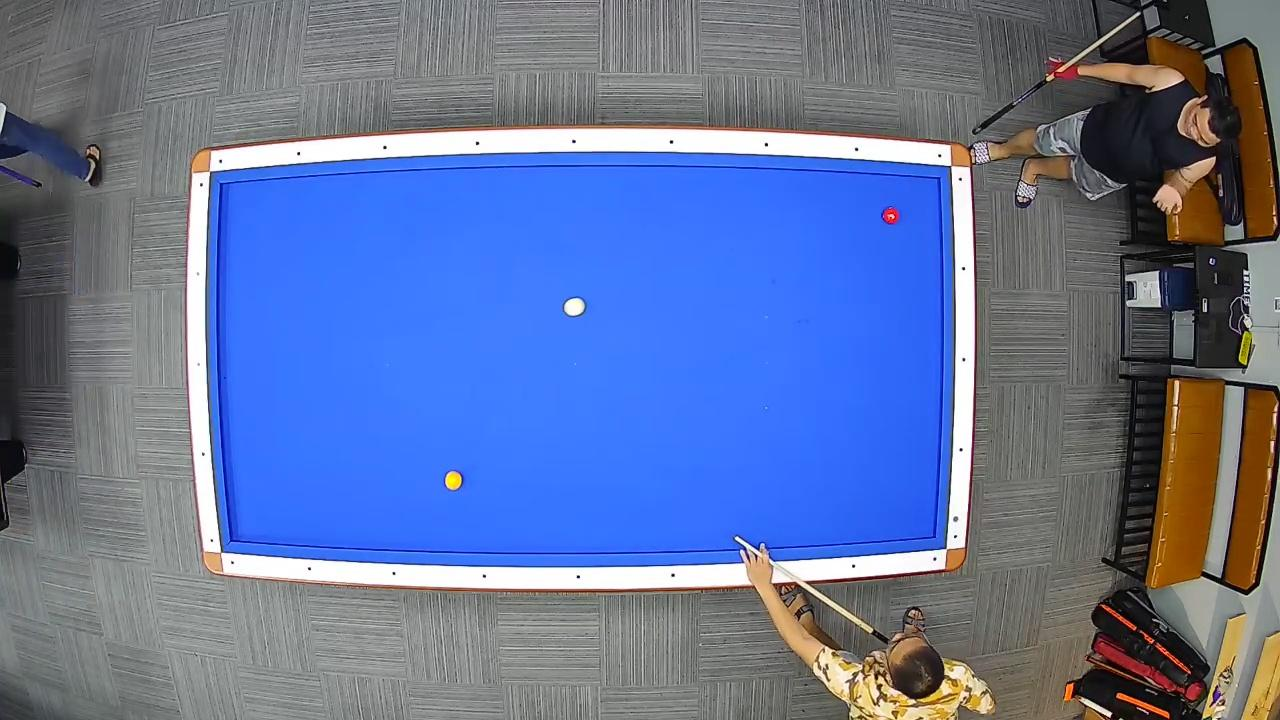Red: (881, 205, 901, 227)
White: (561, 296, 588, 317)
Yellow: (443, 468, 464, 491)
